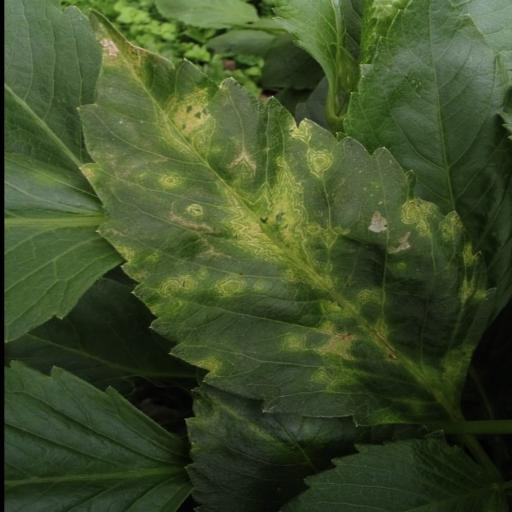Mosaic Virus: (72, 10, 494, 430)
